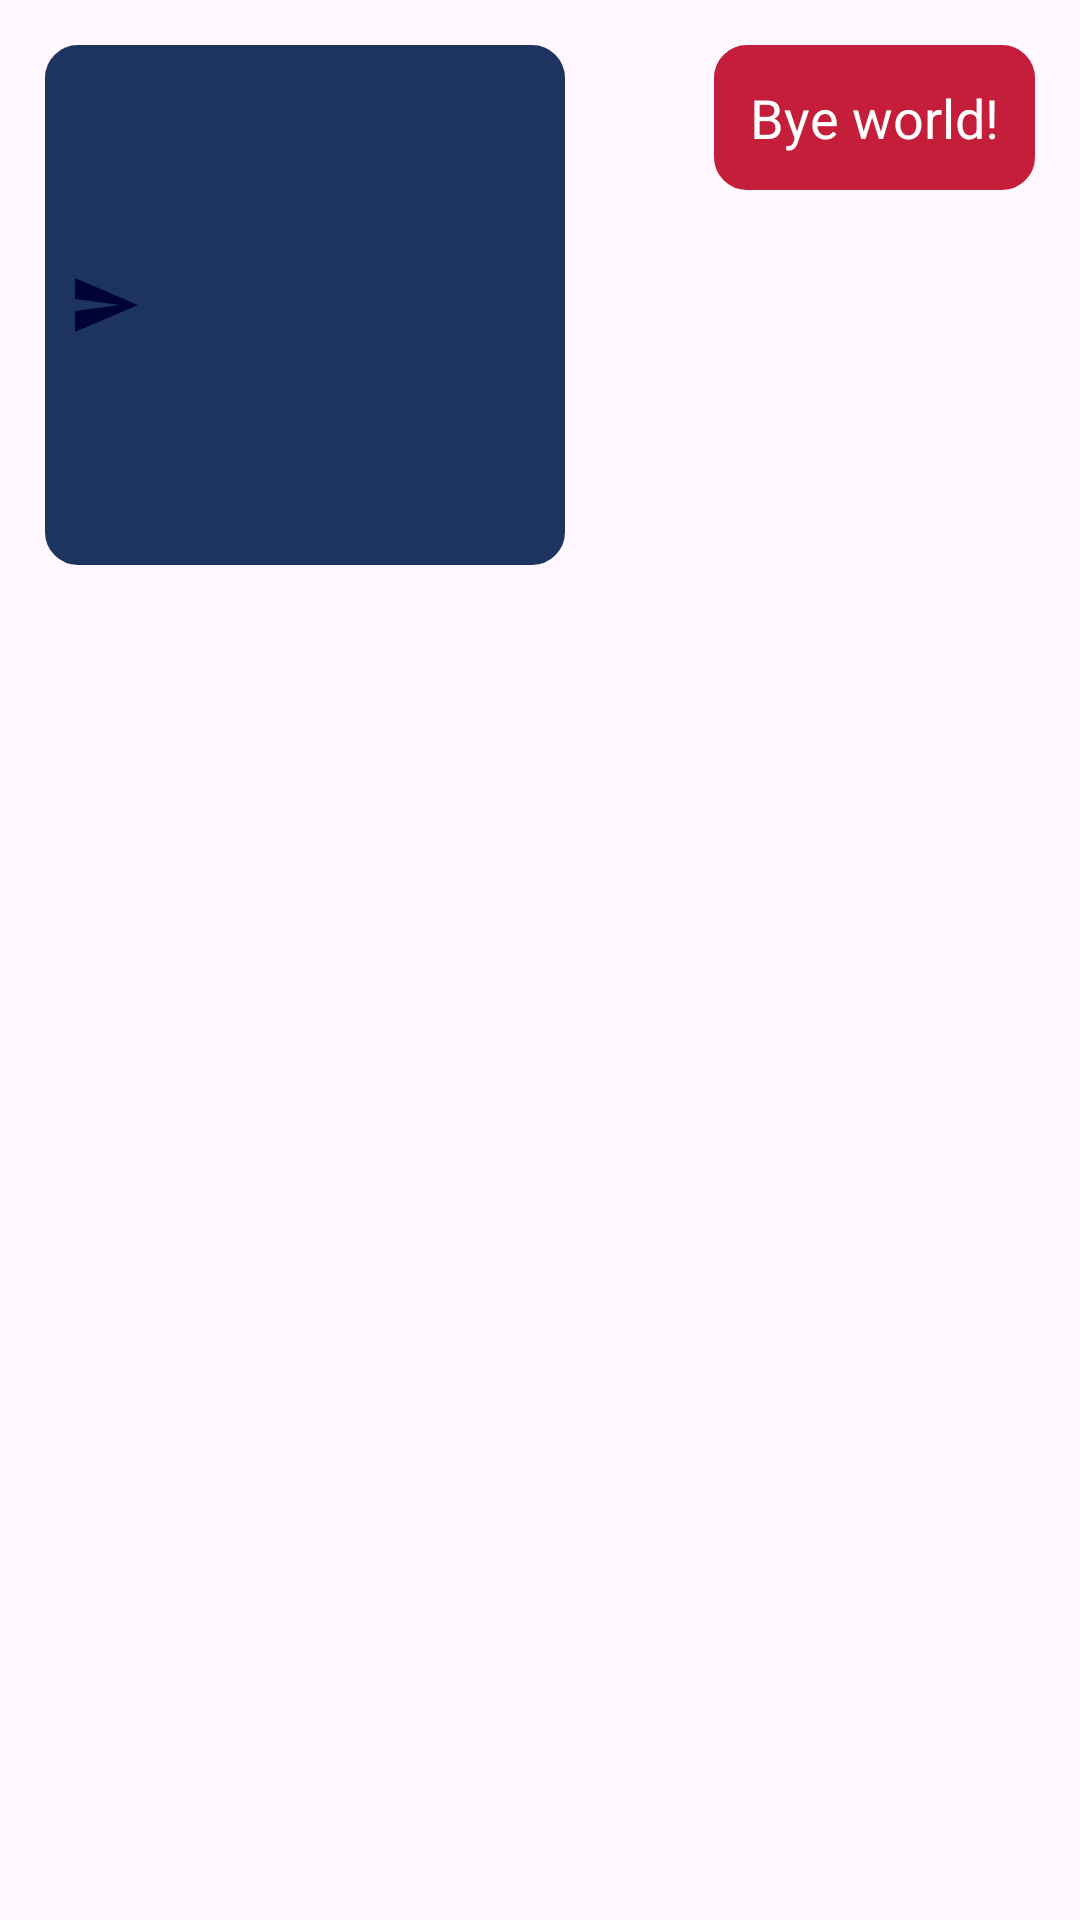

Where icons sit on this 1080x1920 app screen, as (x1, y1, x2, y2):
send: (75, 278, 137, 332)
